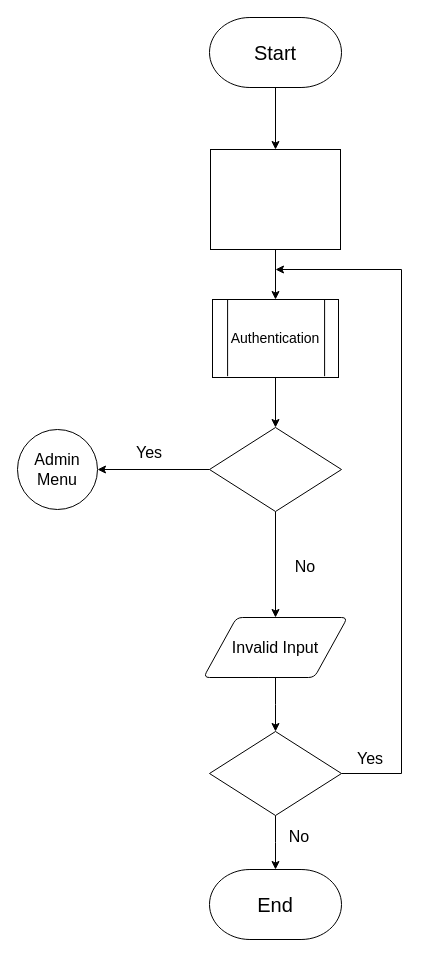
Some shapes in this 427 by 957 pixel diagram are drawn without their labels. Each missing label, with the box of its shape:
Continue?: (208, 730, 342, 816)
Initialize admin status: (210, 148, 340, 250)
Valid Password& User ID/Name?: (208, 426, 342, 512)
